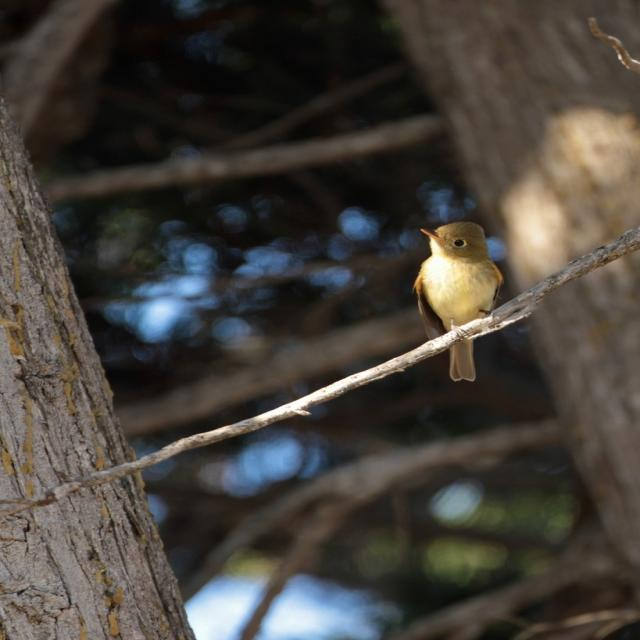bird: (408, 215, 511, 389)
